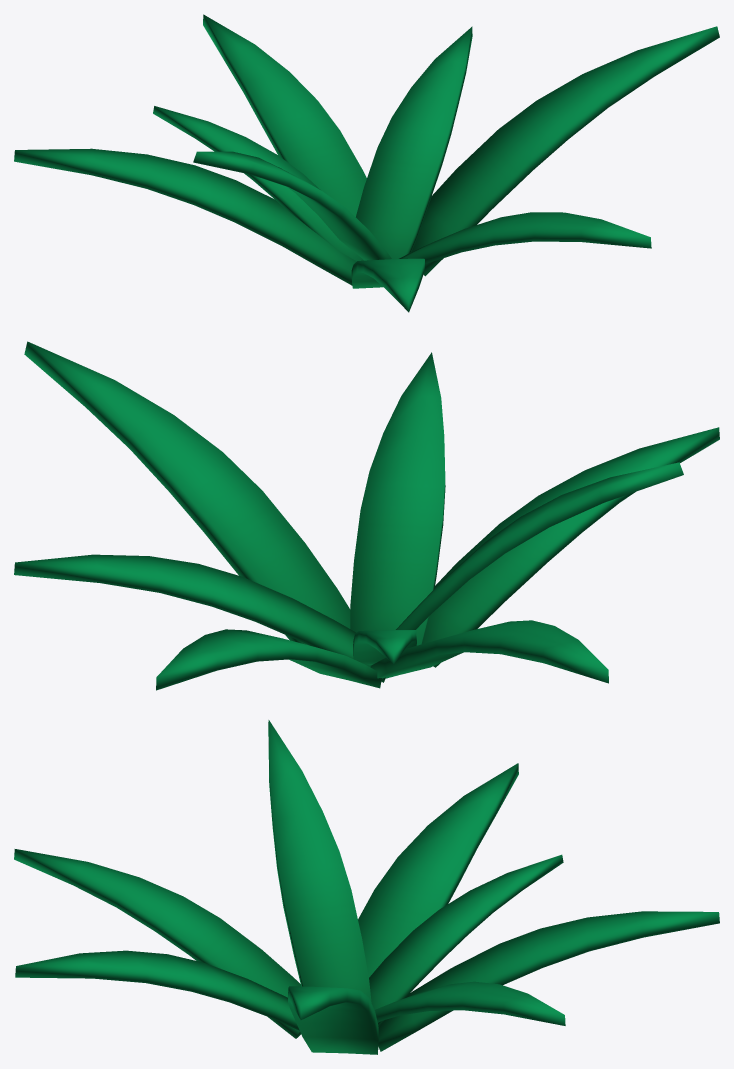
File: Grass_02.fbx
The picture shows the model from 3 angles, top to bottom: view 1: azimuth 30°, elevation 25°; view 2: azimuth 150°, elevation 25°; view 3: azimuth 270°, elevation 25°; orthographic projection. The views are drawn at different scales.
Parts seen in each view (by area): view 1: Grass_02; view 2: Grass_02; view 3: Grass_02.
Boxes of the visible parts, left/top/right/bottom form: Grass_02: left=14, top=14, right=719, bottom=312; Grass_02: left=14, top=341, right=719, bottom=690; Grass_02: left=14, top=720, right=719, bottom=1054.
Size of the model in its own units: 65.38 by 64.44 by 20.91.
